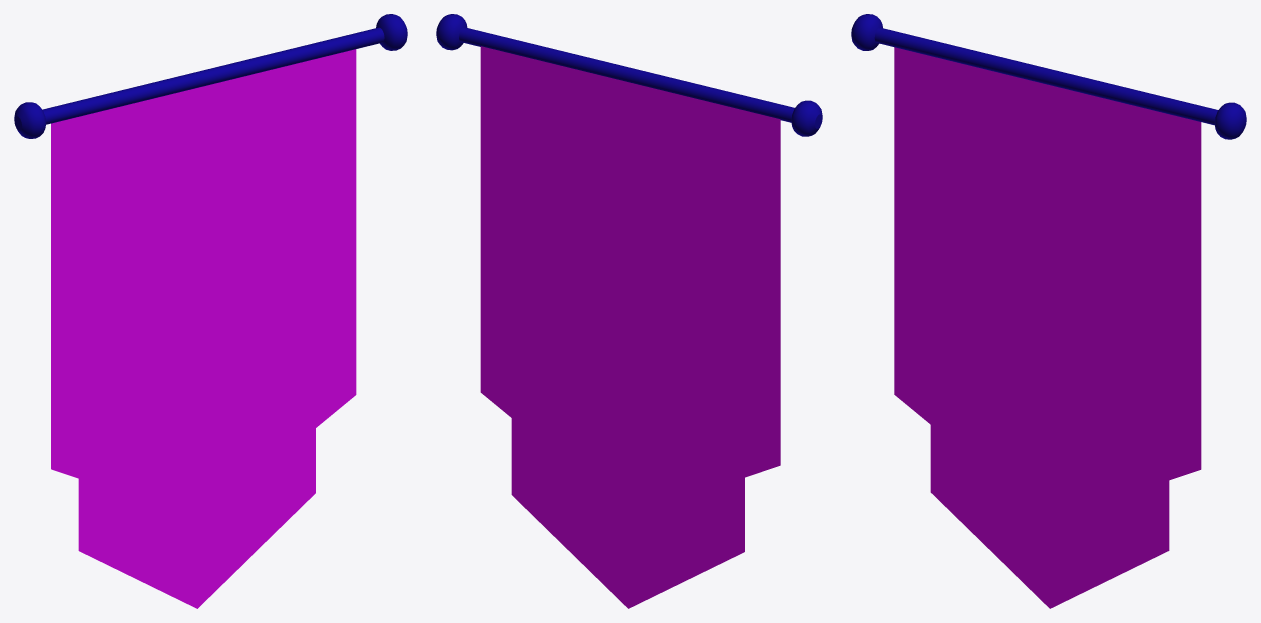
Rendered from blazon.FBX.
3 renders of one model, left to right at view 1: azimuth 30°, elevation 25°; view 2: azimuth 150°, elevation 25°; view 3: azimuth 330°, elevation 25°, orthographic. The views are drawn at different scales.
Visible parts, largest first — view 1: Plane003; view 2: Plane003; view 3: Plane003.
Boxes of the visible parts, left/top/right/bottom form: Plane003: left=14, top=14, right=407, bottom=608; Plane003: left=436, top=14, right=822, bottom=608; Plane003: left=851, top=14, right=1246, bottom=608.
Bounding box in the file's own units: 215 × 295 × 18.17.
